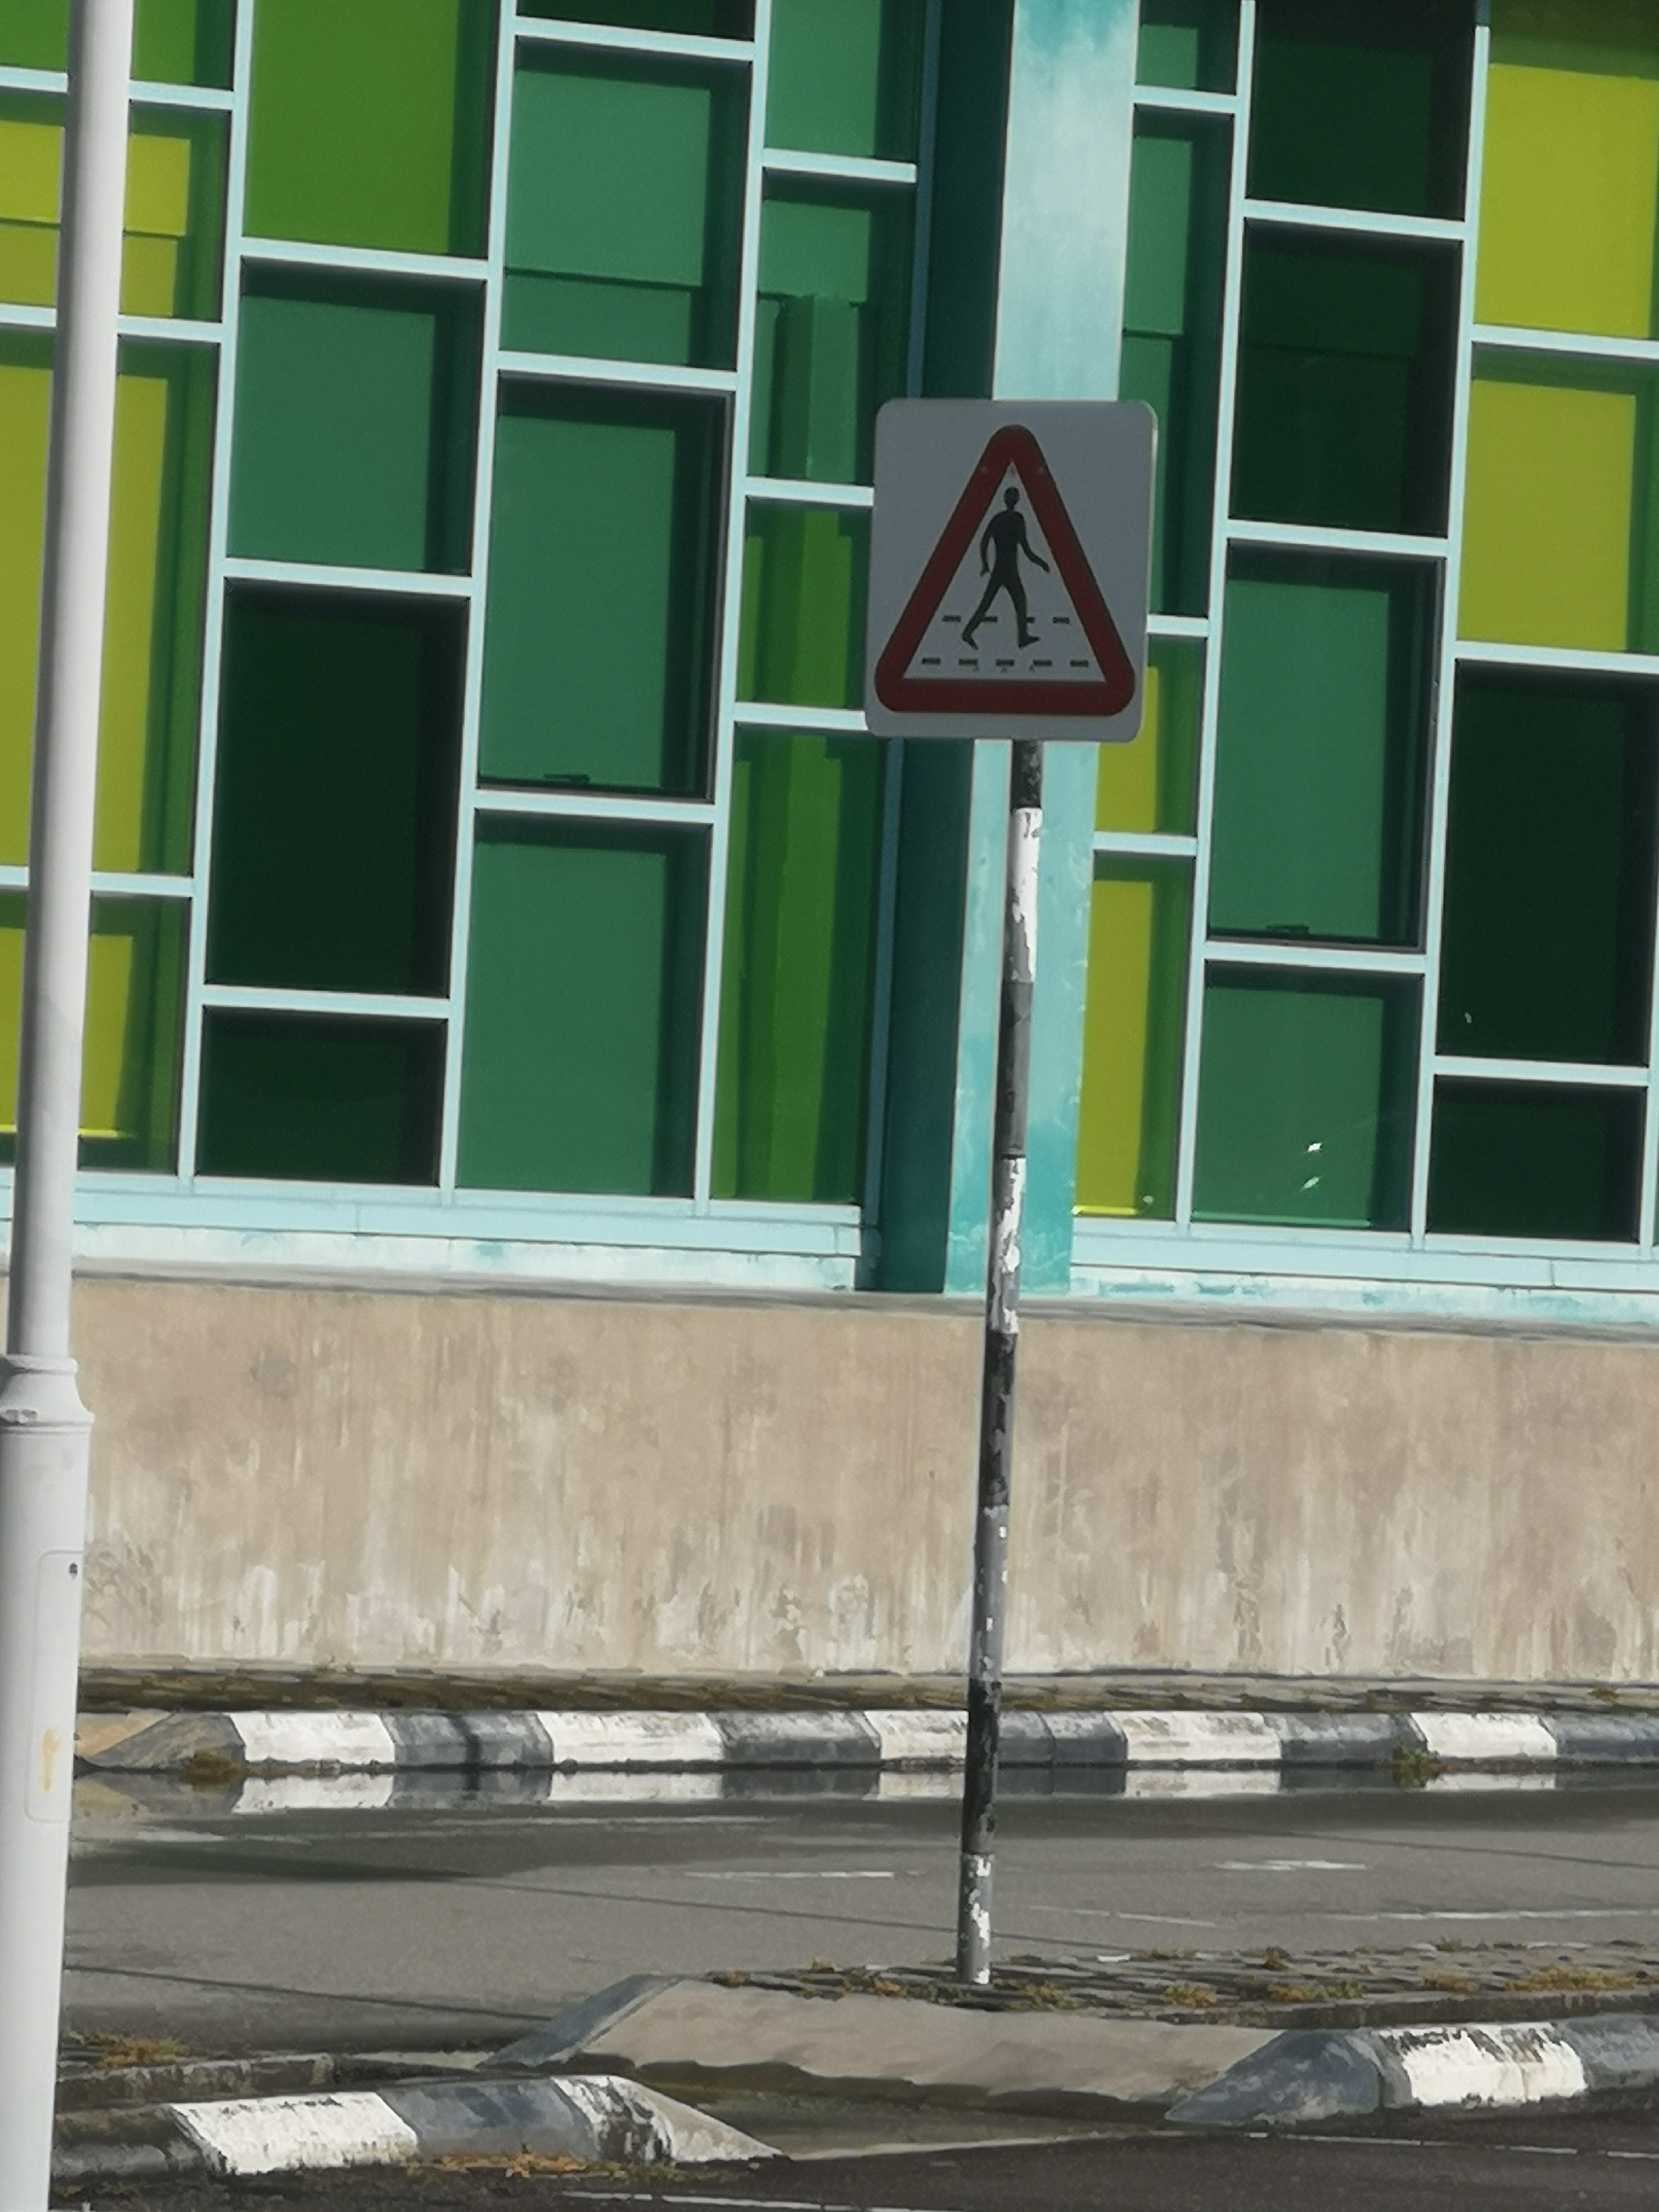pedestrian crossing: (870, 385, 1150, 745)
